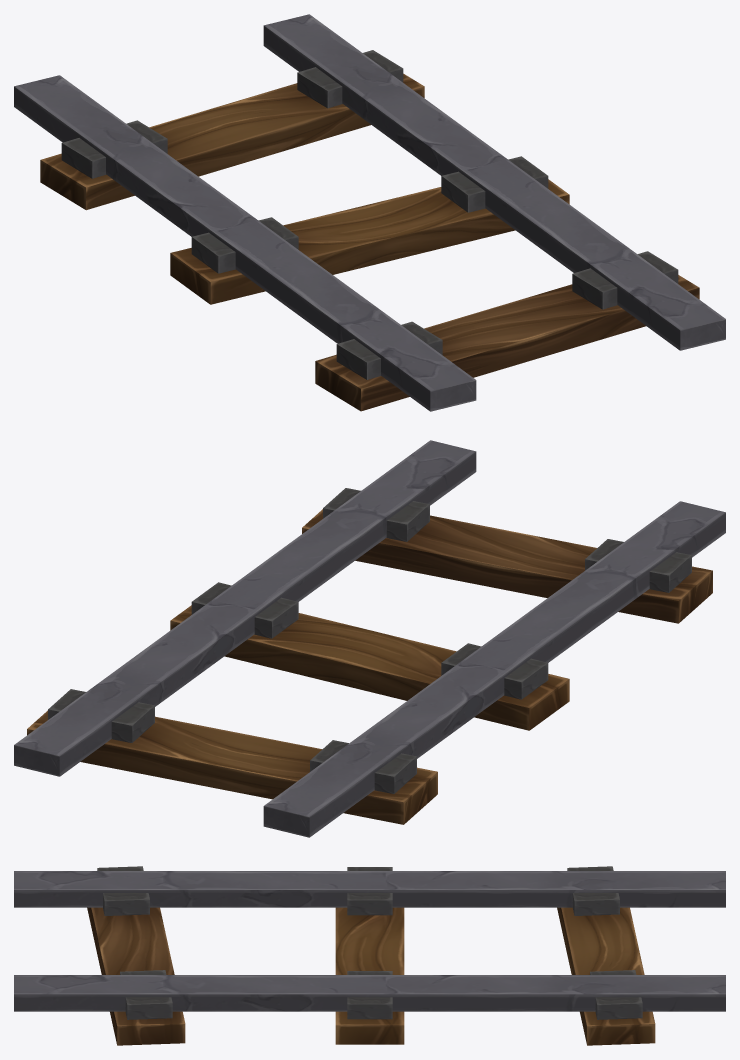
File: Railway_2.FBX
3 views of the same model, one above another, from view 1: azimuth 30°, elevation 25°; view 2: azimuth 150°, elevation 25°; view 3: azimuth 270°, elevation 25° (orthographic). The views are drawn at different scales.
Visible parts, largest first — view 1: Railway_2; view 2: Railway_2; view 3: Railway_2.
Boxes of the visible parts, x1,y1,x2,y2 form: Railway_2: [14, 14, 725, 411]; Railway_2: [14, 440, 725, 837]; Railway_2: [14, 866, 725, 1045].
Size of what is drawn, in the model's own units: 252 by 500 by 28.94.
